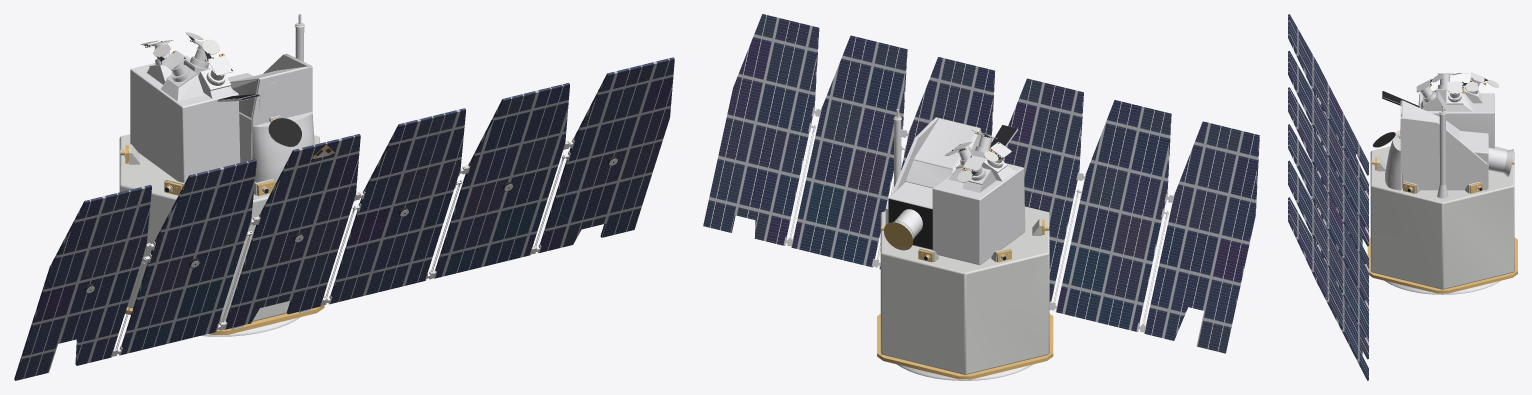
File: aim.glb
The picture shows the model from 3 angles, left to right: view 1: azimuth 30°, elevation 25°; view 2: azimuth 150°, elevation 25°; view 3: azimuth 270°, elevation 25°; orthographic projection. The views are drawn at different scales.
Parts seen in each view (by area): view 1: Fake; view 2: Fake; view 3: Fake.
Boxes of the visible parts, bbox=[...] form: Fake: bbox=[14, 14, 674, 380]; Fake: bbox=[703, 14, 1259, 380]; Fake: bbox=[1288, 14, 1517, 380].
Bounding box in the file's own units: 2.46 × 1.02 × 1.1.
7 materials, 1 textured.
